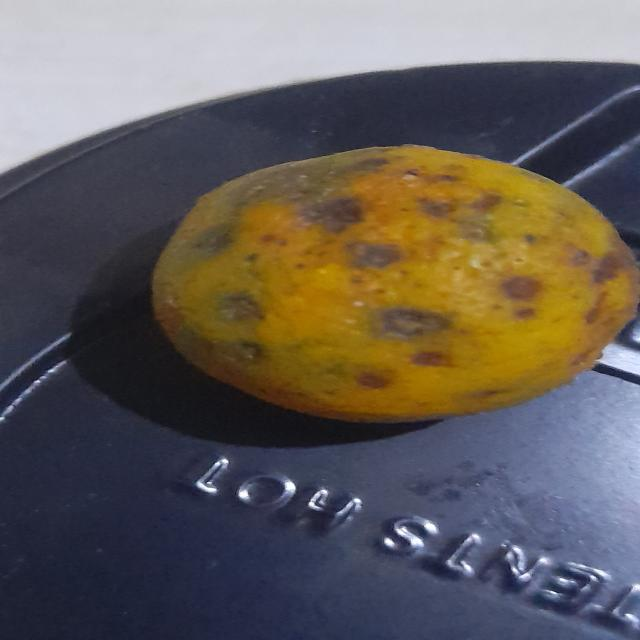black spot: (150, 146, 640, 422)
